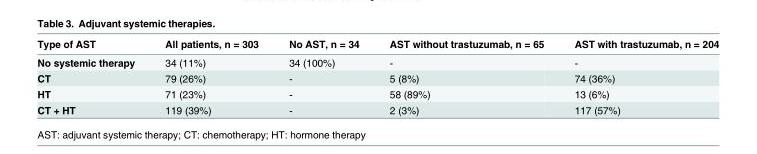table: (36, 37, 718, 115)
table column: (373, 37, 558, 115), (558, 37, 718, 115), (149, 37, 273, 115), (36, 37, 149, 115), (273, 37, 373, 115)
table column header: (36, 37, 718, 52)
table row: (36, 52, 718, 69), (36, 69, 718, 85), (36, 85, 718, 101), (36, 37, 718, 52), (36, 101, 718, 115)
